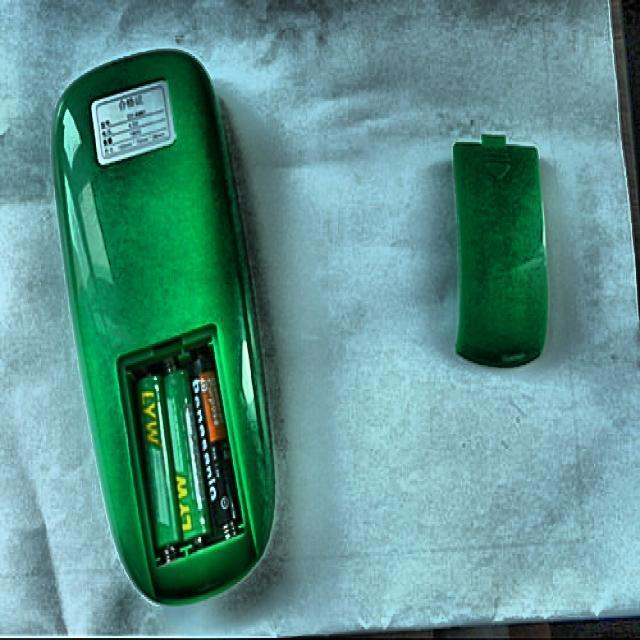battery: (192, 351, 241, 538), (164, 367, 210, 540), (136, 375, 181, 548)
